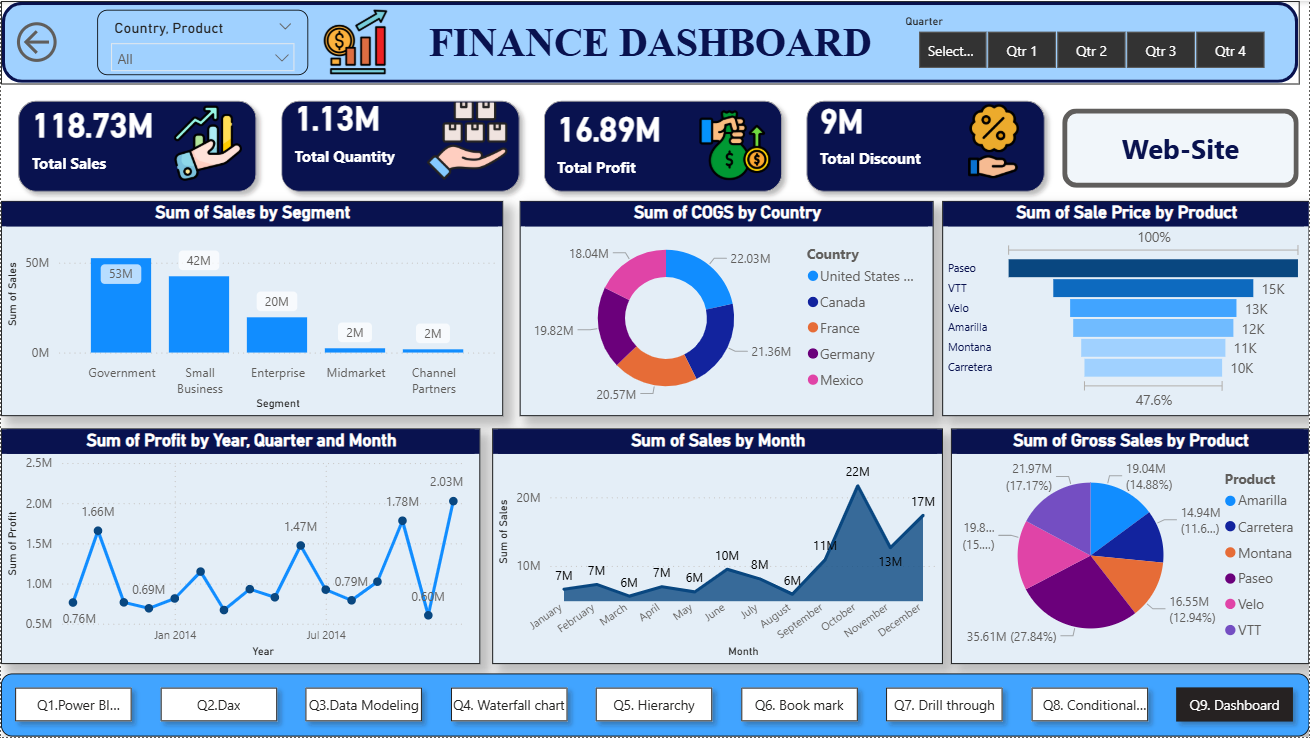

Layout of this report page (visuals, bound fields, positions):
{"tool":"powerbi","page":{"name":"Q9. Dashboard","canvas":[1280,720],"ordinal":9},"visuals":[{"type":"shape","box":[0,0,1270.2,81.2],"z":0},{"type":"image","box":[235.1,3.7,224,72.6],"z":1000},{"type":"cardVisual","fields":{"Data":["MASTER TABLE.Total Sales","MASTER TABLE.Total Quantity","MASTER TABLE.Total Profit","MASTER TABLE.Total Discount"]},"box":[0,81.2,1038.8,123.1],"z":2000},{"type":"lineClusteredColumnComboChart","fields":{"Category":["financials.Segment"],"Y":["Sum(financials. Sales)"]},"box":[0,195.7,491.1,210.5],"z":3000},{"type":"lineChart","fields":{"Y":["Sum(financials.Profit)"],"Category":["financials.Date.Variation.Date Hierarchy.Year","financials.Date.Variation.Date Hierarchy.Quarter","financials.Date.Variation.Date Hierarchy.Month"]},"box":[0,418.5,468.9,230.2],"z":4000},{"type":"donutChart","fields":{"Category":["financials.Country"],"Y":["Sum(financials.COGS)"]},"box":[507.1,195.7,404.9,210.5],"z":5000},{"type":"funnel","fields":{"Y":["Sum(financials.Sale Price)"],"Category":["financials.Product"]},"box":[920.6,195.7,359.4,210.5],"z":6000},{"type":"areaChart","fields":{"Y":["Sum(financials. Sales)"],"Category":["financials.Date.Variation.Date Hierarchy.Month"]},"box":[480,418.5,440.6,230.2],"z":7000},{"type":"pieChart","fields":{"Y":["Sum(financials.Gross Sales)"],"Series":["financials.Product"]},"box":[929.2,418.5,350.8,230.2],"z":8000},{"type":"slicer","fields":{"Values":["financials.Date.Variation.Date Hierarchy.Quarter"]},"box":[871.4,8.6,387.7,64],"z":9000},{"type":"pageNavigator","box":[0,658.5,1280,61.5],"z":10000},{"type":"actionButton","box":[9.8,8.6,50.5,64],"z":11000},{"type":"slicer","fields":{"Values":["financials.Country","financials.Product"]},"box":[94.8,8.6,206.8,64],"z":13000},{"type":"actionButton","box":[1038.8,104.6,231.4,77.5],"z":13001}]}

Visuals, with their boxes in screenshot pixels (x1, y1, x2, y2), scaled from the page's 1280x720 canvas onto the 1310x738 screenshot:
shape: {"left": 0, "top": 0, "right": 1300, "bottom": 83}
image: {"left": 241, "top": 4, "right": 470, "bottom": 78}
cardVisual - MASTER TABLE.Total Sales x MASTER TABLE.Total Quantity: {"left": 0, "top": 83, "right": 1063, "bottom": 209}
lineClusteredColumnComboChart - financials.Segment x Sum(financials. Sales): {"left": 0, "top": 201, "right": 503, "bottom": 416}
lineChart - Sum(financials.Profit) x financials.Date.Variation.Date Hierarchy.Year: {"left": 0, "top": 429, "right": 480, "bottom": 665}
donutChart - financials.Country x Sum(financials.COGS): {"left": 519, "top": 201, "right": 933, "bottom": 416}
funnel - Sum(financials.Sale Price) x financials.Product: {"left": 942, "top": 201, "right": 1309, "bottom": 416}
areaChart - Sum(financials. Sales) x financials.Date.Variation.Date Hierarchy.Month: {"left": 491, "top": 429, "right": 942, "bottom": 665}
pieChart - Sum(financials.Gross Sales) x financials.Product: {"left": 951, "top": 429, "right": 1309, "bottom": 665}
slicer - financials.Date.Variation.Date Hierarchy.Quarter: {"left": 892, "top": 9, "right": 1289, "bottom": 74}
pageNavigator: {"left": 0, "top": 675, "right": 1309, "bottom": 737}
actionButton: {"left": 10, "top": 9, "right": 62, "bottom": 74}
slicer - financials.Country x financials.Product: {"left": 97, "top": 9, "right": 309, "bottom": 74}
actionButton: {"left": 1063, "top": 107, "right": 1300, "bottom": 187}
